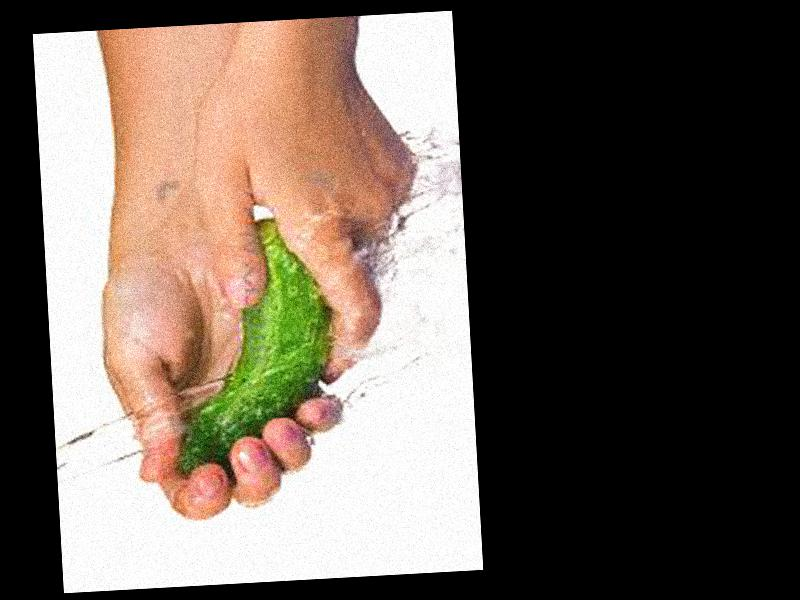Cucumber: (165, 213, 342, 476)
